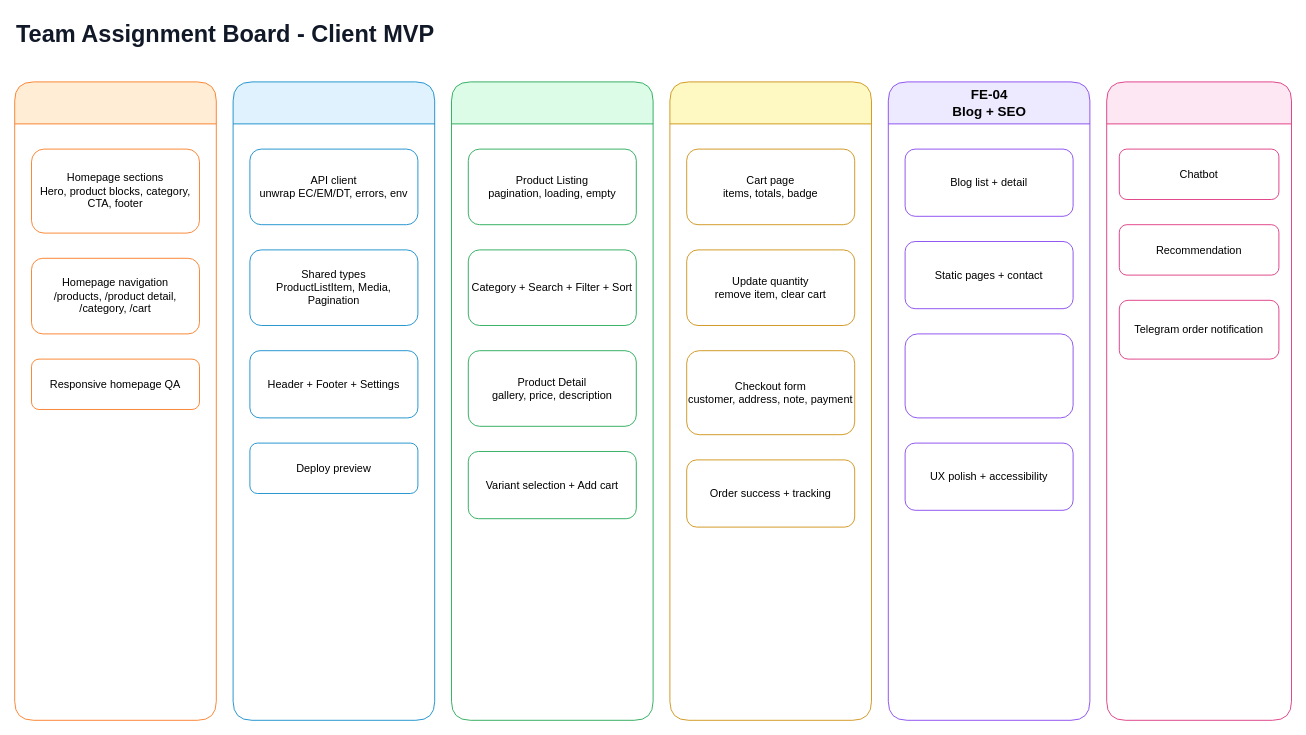
Image size: 1306x735. Some labels were removed from this diagram. The shapes that lost their labels are listed below. From the top down, each one's box as (x1, y1, x2, y2) in pixels, then its label:
(904, 333, 1073, 418): SEO rendering meta, OG, canonical, schema
(14, 81, 216, 720): FE-HOMEPAGE Deadline 2026-05-11
(232, 81, 435, 720): FE-01 Base + Layout
(451, 81, 653, 720): FE-02 Catalog + Detail
(669, 81, 872, 720): FE-03 Cart + Checkout
(1106, 81, 1292, 720): FE-05 / BE After MVP
